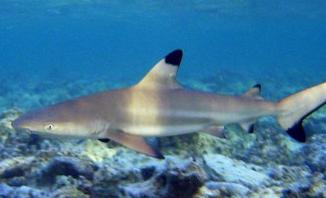Shark -Selachimorpha-: (12, 48, 326, 156)
